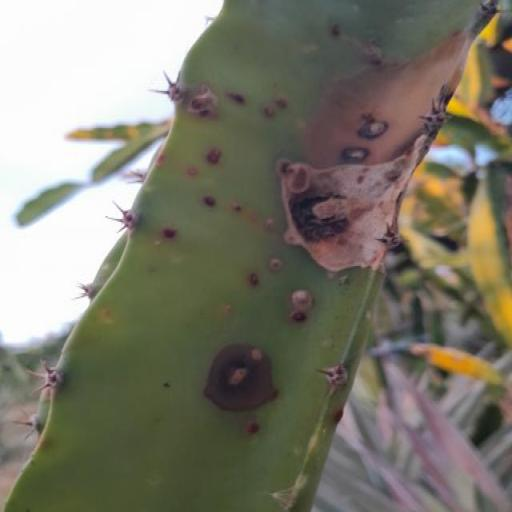stemcanker: (265, 251, 286, 275), (262, 213, 277, 236)
